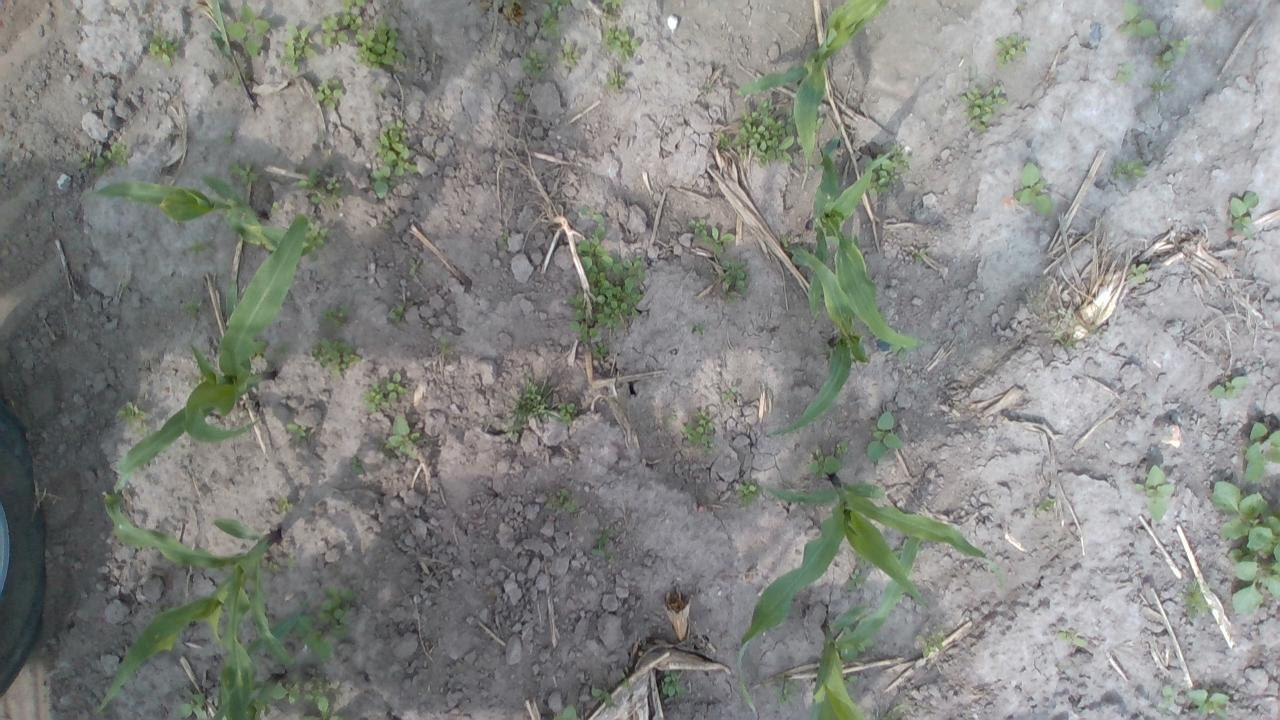Maize: (736, 470, 999, 716), (112, 212, 309, 496), (90, 492, 292, 720), (810, 117, 924, 348), (736, 0, 889, 170), (80, 174, 320, 264), (806, 535, 920, 720), (767, 244, 871, 439), (214, 598, 313, 720), (210, 0, 255, 106)
Weeds: (564, 205, 649, 358), (1213, 480, 1280, 618), (738, 101, 796, 168), (505, 375, 555, 441), (1132, 463, 1174, 523), (357, 20, 406, 68), (377, 119, 417, 176), (962, 84, 1008, 132), (1244, 420, 1280, 481), (227, 7, 270, 58), (1014, 160, 1052, 216), (290, 614, 334, 661), (868, 412, 904, 461), (312, 340, 360, 376), (305, 673, 341, 720), (874, 141, 909, 189), (298, 168, 343, 205), (319, 586, 353, 634), (282, 24, 316, 72), (385, 415, 421, 459), (604, 22, 640, 64), (717, 258, 751, 302), (1117, 1, 1159, 36), (1230, 191, 1260, 238), (1188, 689, 1232, 720), (994, 33, 1032, 68), (684, 412, 715, 454), (176, 680, 209, 718), (116, 401, 150, 435), (1182, 580, 1210, 620), (701, 227, 736, 258), (147, 31, 178, 66), (1210, 375, 1250, 400), (916, 625, 948, 656), (321, 13, 352, 45), (1110, 158, 1148, 184), (314, 80, 344, 112), (805, 450, 840, 477), (544, 488, 578, 514), (660, 671, 689, 699), (303, 221, 329, 252), (371, 166, 396, 198), (364, 382, 389, 414), (521, 50, 548, 78), (272, 680, 302, 705), (320, 304, 351, 328), (776, 678, 801, 706), (558, 40, 584, 66), (592, 531, 614, 561), (385, 372, 407, 402), (1056, 628, 1090, 647), (344, 0, 366, 29), (846, 565, 868, 592), (231, 163, 259, 184), (388, 301, 412, 323), (739, 483, 759, 509), (603, 71, 626, 93), (555, 401, 577, 424), (592, 688, 616, 709), (540, 11, 559, 37), (1155, 47, 1174, 73), (602, 0, 626, 20), (90, 150, 110, 174), (110, 142, 128, 168), (1160, 684, 1181, 706), (889, 344, 914, 360), (1128, 262, 1148, 282), (1168, 39, 1190, 57), (1052, 334, 1076, 350), (556, 704, 579, 720), (1036, 496, 1055, 515), (1150, 78, 1174, 93), (689, 218, 708, 236), (287, 424, 306, 442), (180, 301, 201, 317), (1116, 64, 1132, 85), (80, 152, 94, 174), (188, 242, 213, 254), (439, 336, 454, 354), (546, 0, 573, 10), (719, 134, 738, 148), (722, 386, 738, 402), (409, 258, 423, 276), (843, 675, 861, 689), (350, 456, 363, 475), (1202, 0, 1224, 11), (912, 246, 927, 262), (274, 498, 290, 513), (620, 668, 632, 688), (255, 340, 268, 358), (858, 638, 874, 652), (1086, 322, 1100, 336), (836, 442, 850, 455), (223, 130, 235, 145), (693, 322, 706, 335), (701, 82, 713, 96), (514, 86, 524, 102), (372, 84, 386, 95), (780, 235, 791, 248), (502, 229, 511, 244), (270, 201, 280, 214), (816, 117, 824, 131)
